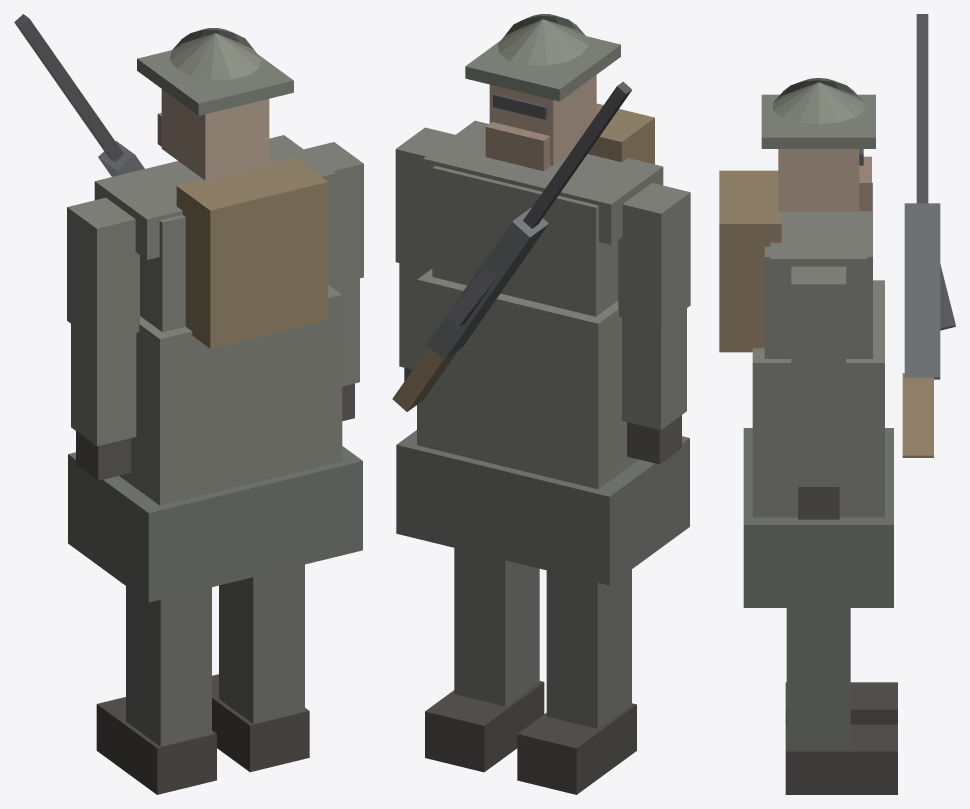
File: soviet_infantry.glb
The picture shows the model from 3 angles, left to right: view 1: azimuth 30°, elevation 25°; view 2: azimuth 150°, elevation 25°; view 3: azimuth 270°, elevation 25°; orthographic projection. The views are drawn at different scales.
Parts seen in each view (by area): view 1: Coat, CoatSkirt, Pack, ShinLeft, ShinRight, ArmLeft, Head, ForearmLeft, Boot, Yoke, Boot.001, HelmetRim (+7 smaller); view 2: Coat, CoatSkirt, Body, ShinLeft, ShinRight, ArmLeft, Yoke, Boot, Boot.001, ForearmLeft, HelmetRim, ArmRight (+11 smaller); view 3: CoatSkirt, Coat, Pack, ShinRight, ArmRight, Rifle, Yoke, Boot.001, Head, ForearmRight, Body, HelmetRim (+7 smaller).
Boxes of the visible parts, left/top/right/bottom form: Coat: left=119, top=284, right=342, bottom=505; CoatSkirt: left=68, top=446, right=362, bottom=602; Pack: left=176, top=157, right=327, bottom=348; ShinLeft: left=126, top=586, right=211, bottom=746; ShinRight: left=219, top=564, right=304, bottom=723; ArmLeft: left=67, top=197, right=139, bottom=342; Head: left=161, top=89, right=269, bottom=180; ForearmLeft: left=71, top=324, right=136, bottom=446; Boot: left=96, top=697, right=216, bottom=794; Yoke: left=94, top=135, right=336, bottom=259; Boot.001: left=212, top=674, right=309, bottom=772; HelmetRim: left=137, top=50, right=293, bottom=115; Coat: left=417, top=269, right=638, bottom=489; CoatSkirt: left=396, top=430, right=689, bottom=585; Body: left=432, top=165, right=618, bottom=316; ShinLeft: left=546, top=569, right=631, bottom=728; ShinRight: left=454, top=548, right=539, bottom=706; ArmLeft: left=618, top=183, right=690, bottom=326; Yoke: left=423, top=120, right=663, bottom=244; Boot: left=517, top=703, right=636, bottom=794; Boot.001: left=425, top=681, right=544, bottom=772; ForearmLeft: left=622, top=308, right=686, bottom=430; HelmetRim: left=465, top=36, right=620, bottom=101; ArmRight: left=395, top=127, right=454, bottom=270; CoatSkirt: left=743, top=428, right=893, bottom=607; Coat: left=752, top=280, right=884, bottom=517; Pack: left=719, top=170, right=781, bottom=352; ShinRight: left=786, top=608, right=850, bottom=749; ArmRight: left=791, top=266, right=846, bottom=389; Rifle: left=904, top=203, right=940, bottom=379; Yoke: left=770, top=211, right=867, bottom=296; Boot.001: left=785, top=724, right=897, bottom=794; Head: left=778, top=149, right=859, bottom=211; ForearmRight: left=794, top=390, right=842, bottom=486; Body: left=764, top=182, right=872, bottom=358; HelmetRim: left=761, top=94, right=875, bottom=148.
Bounding box in the file's own units: 0.7109 × 1.82 × 0.5684.
